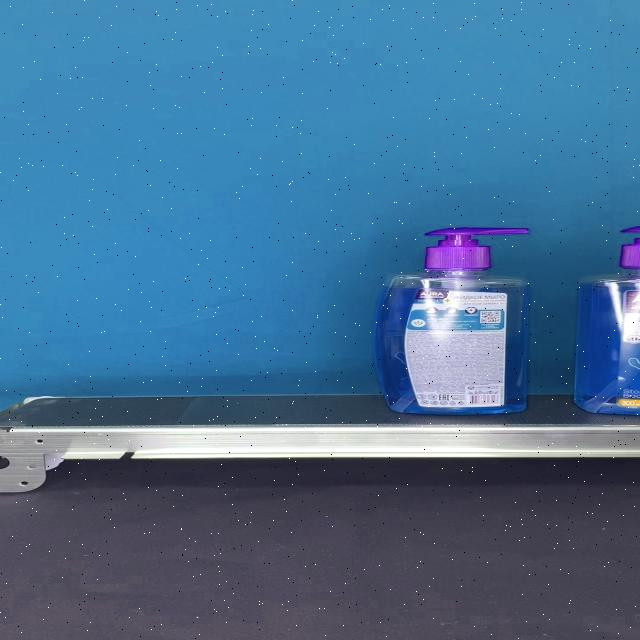Bottle: (373, 228, 529, 415)
Cap: (424, 228, 529, 270)
